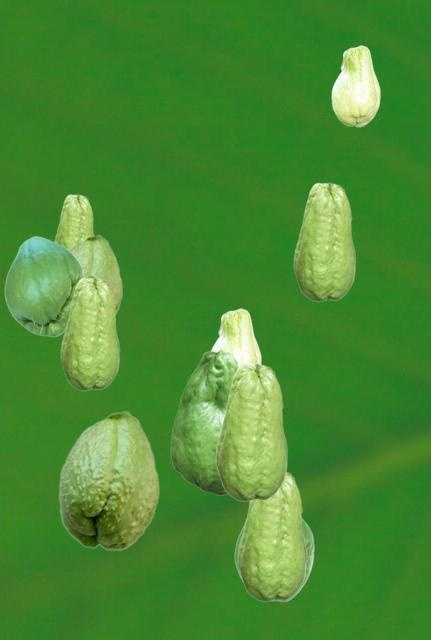sayote: (58, 410, 159, 550), (215, 363, 287, 501), (170, 349, 238, 494), (237, 472, 306, 601), (4, 236, 83, 336), (293, 182, 355, 301), (60, 277, 119, 390), (234, 519, 313, 601), (69, 234, 122, 315), (331, 45, 379, 126), (210, 308, 260, 364), (54, 194, 94, 248)
